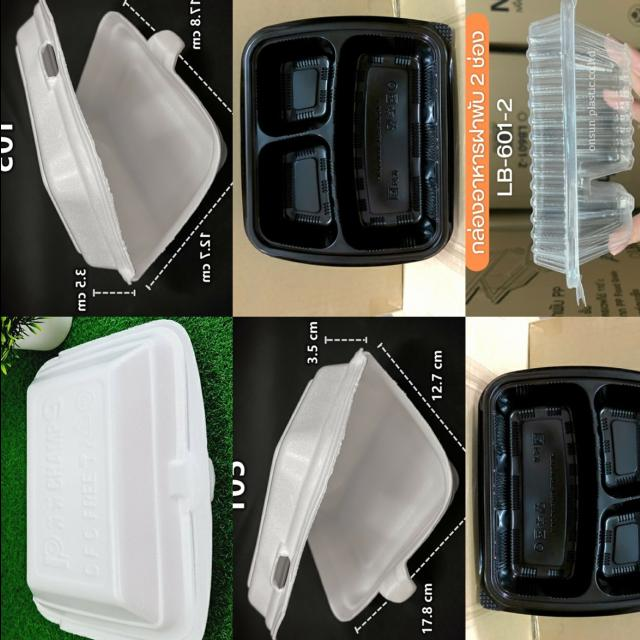plastik: (247, 349, 457, 639), (26, 321, 213, 640), (15, 0, 225, 284), (242, 17, 450, 266), (476, 367, 640, 617), (525, 0, 633, 301)
